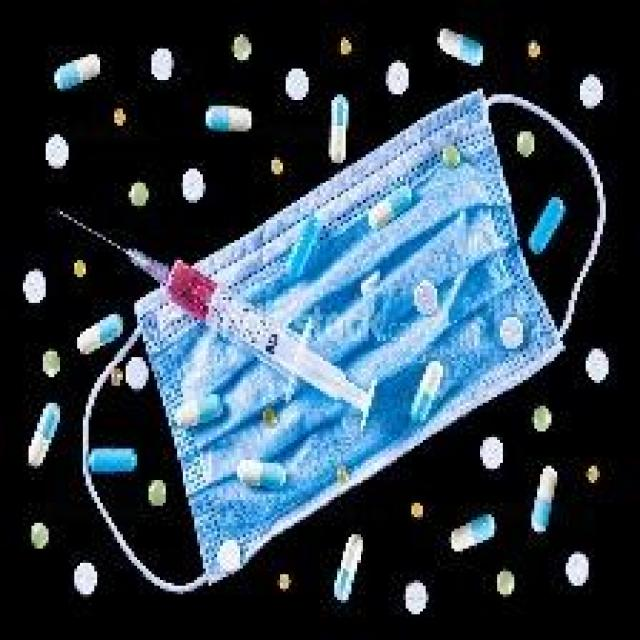Mask: (23, 120, 640, 589)
